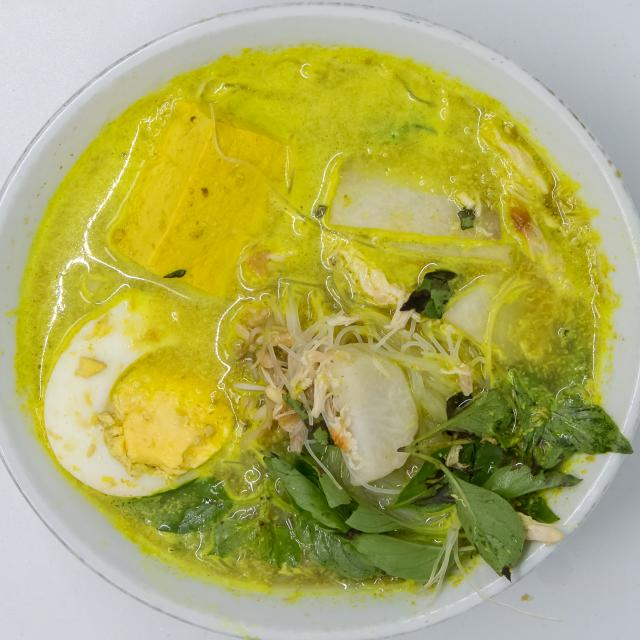Laksa-Bogor: (10, 29, 632, 602)
